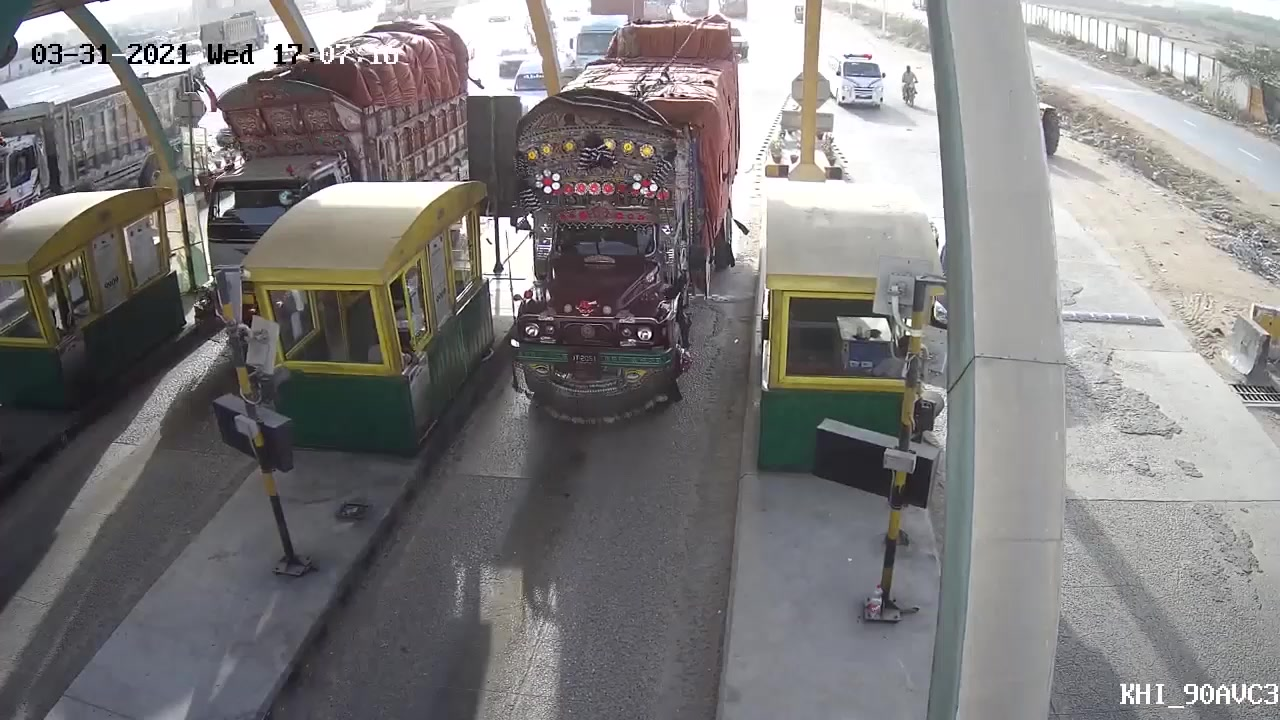F5: (494, 17, 746, 427)
